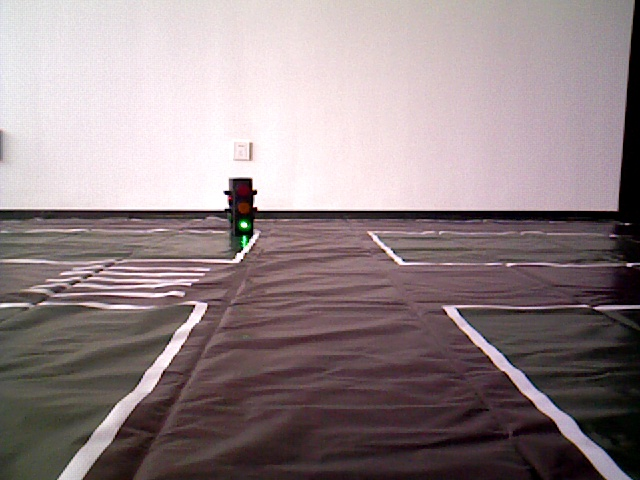green: (227, 181, 253, 231)
